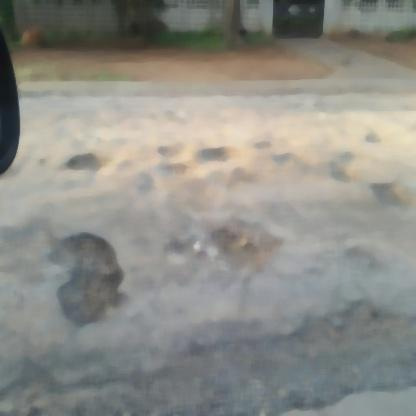Potholes: (58, 237, 122, 320), (209, 219, 275, 278), (334, 153, 390, 186), (67, 152, 108, 178), (196, 145, 241, 167), (160, 158, 193, 181)
